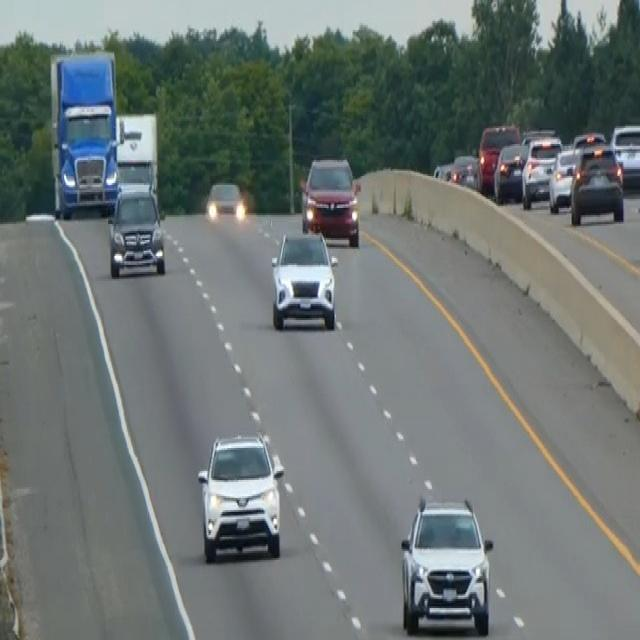car: (398, 490, 494, 634), (196, 428, 285, 562), (269, 228, 337, 330), (106, 182, 166, 278), (299, 153, 361, 245), (569, 142, 624, 226), (520, 133, 562, 208), (477, 121, 520, 190), (547, 146, 578, 212), (492, 140, 524, 202), (610, 121, 639, 187), (205, 178, 246, 224), (448, 151, 480, 190), (571, 128, 606, 149), (432, 158, 453, 182)
lorry: (48, 48, 123, 219)
